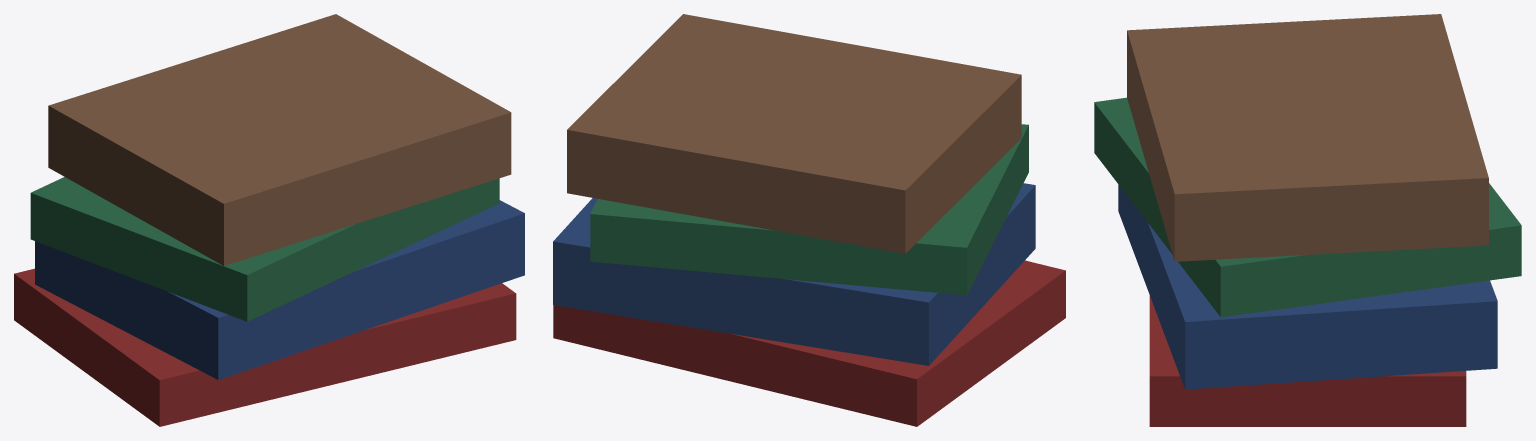
The model's file is GD_BookStack_01.glb.
The picture shows the model from 3 angles, left to right: view 1: azimuth 30°, elevation 25°; view 2: azimuth 150°, elevation 25°; view 3: azimuth 270°, elevation 25°; orthographic projection. The views are drawn at different scales.
Visible parts, largest first — view 1: GD_BookStack_01; view 2: GD_BookStack_01; view 3: GD_BookStack_01.
Part boxes in pixels (x1,y1,x2,y2): GD_BookStack_01: (14,14,524,426); GD_BookStack_01: (553,14,1065,426); GD_BookStack_01: (1094,14,1521,426).
Size of the model in its own units: 0.2678 by 0.14 by 0.2297.
Materials: 1 (1 with a texture image).
